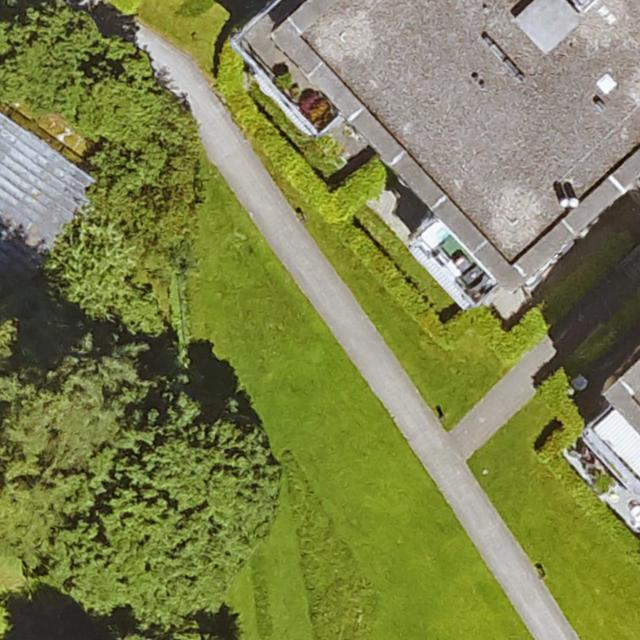tree: (0, 344, 272, 618), (71, 45, 182, 147), (0, 3, 101, 104), (44, 221, 138, 323)
